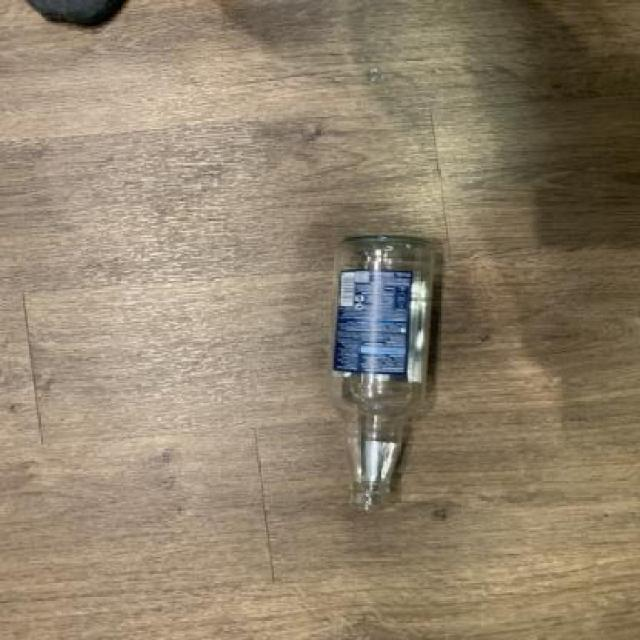trash: (329, 233, 440, 524)
